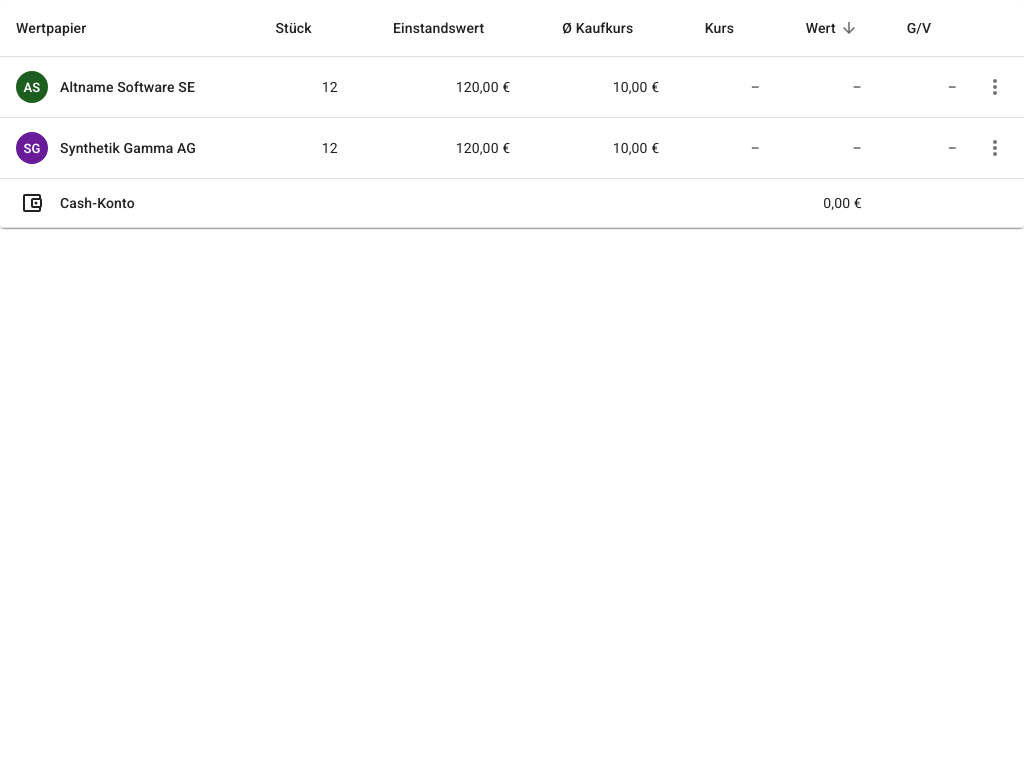
Scenario: IsinChangeDialog from the Positions row menu › edits a listed change: prefills date and quantities and sends its isinChangeId
The width and height of the screenshot is (1024, 768).
Click the button named "Aktionen für Altname Software SE" at (995,87), box [973,65,1017,109]
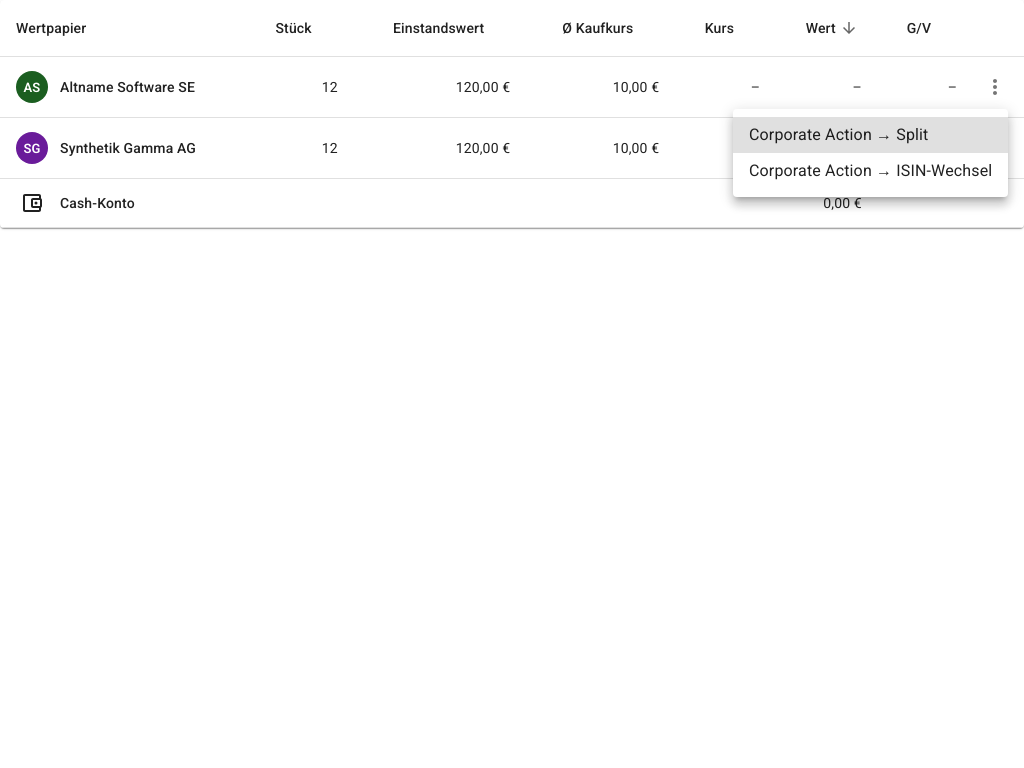
Click the menu item "Corporate Action → ISIN-Wechsel" at (871,170), box [749,161,992,180]
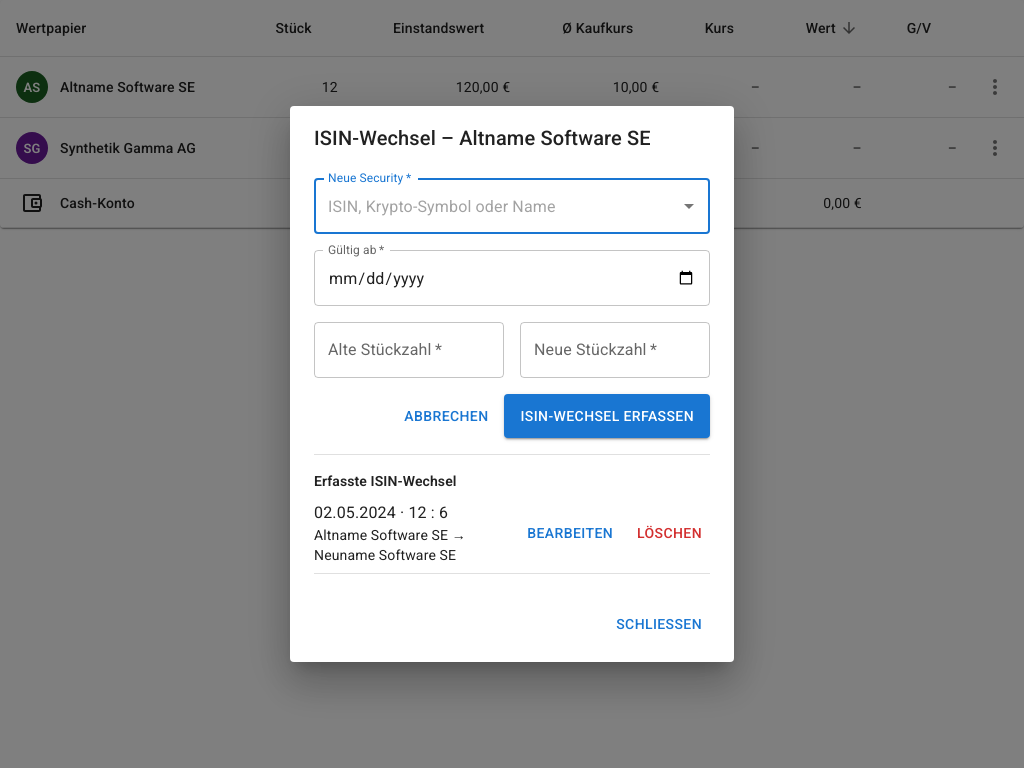
Click the button named "ISIN-Wechsel vom 02.05.2024 (Altname Software SE → Neuname Software SE) bearbeiten" at (570,533), box [519,511,621,555]
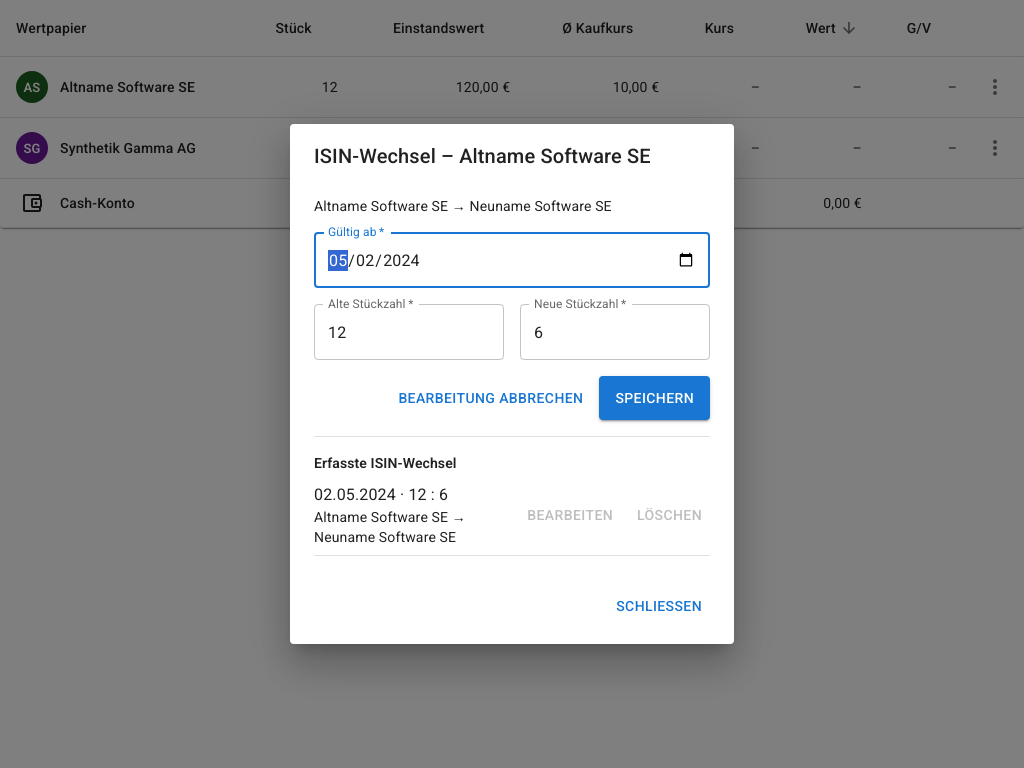
Expected: the field labelled "Alte Stückzahl" holds "12", [314,304,504,360]
Click the button "Speichern" at (655,398), box [599,376,710,420]
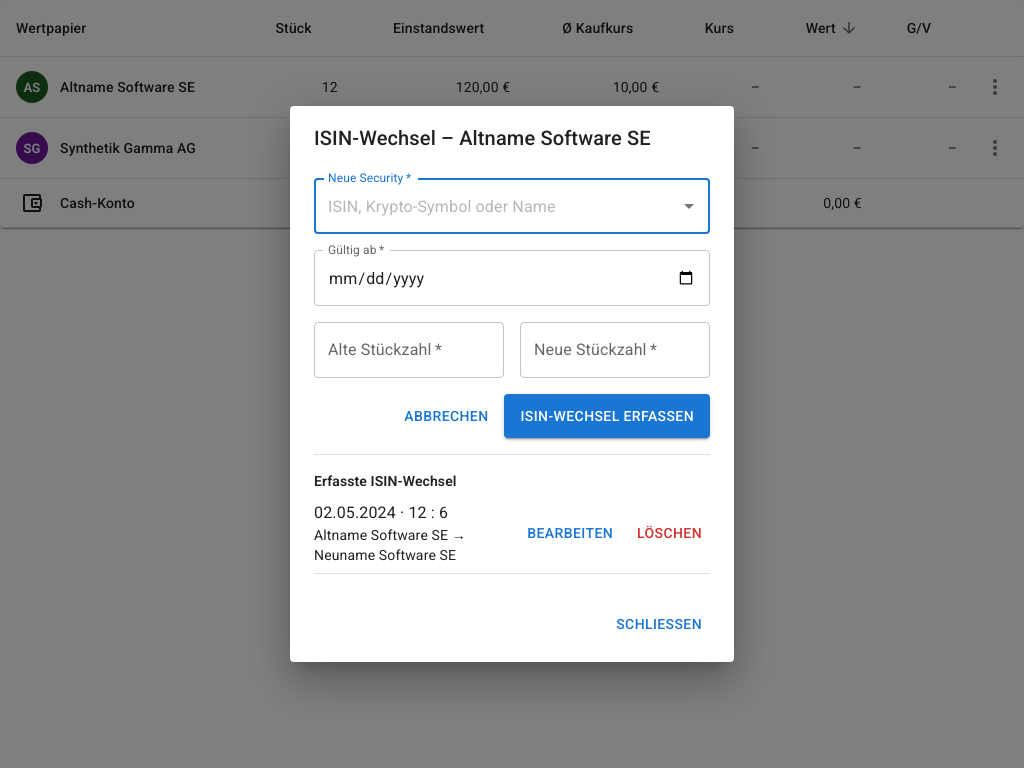
Expected: the form named "ISIN-Wechsel erfassen" is shown, [314,170,710,438]
